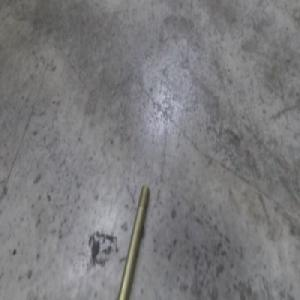Bolt: (116, 184, 148, 299)
